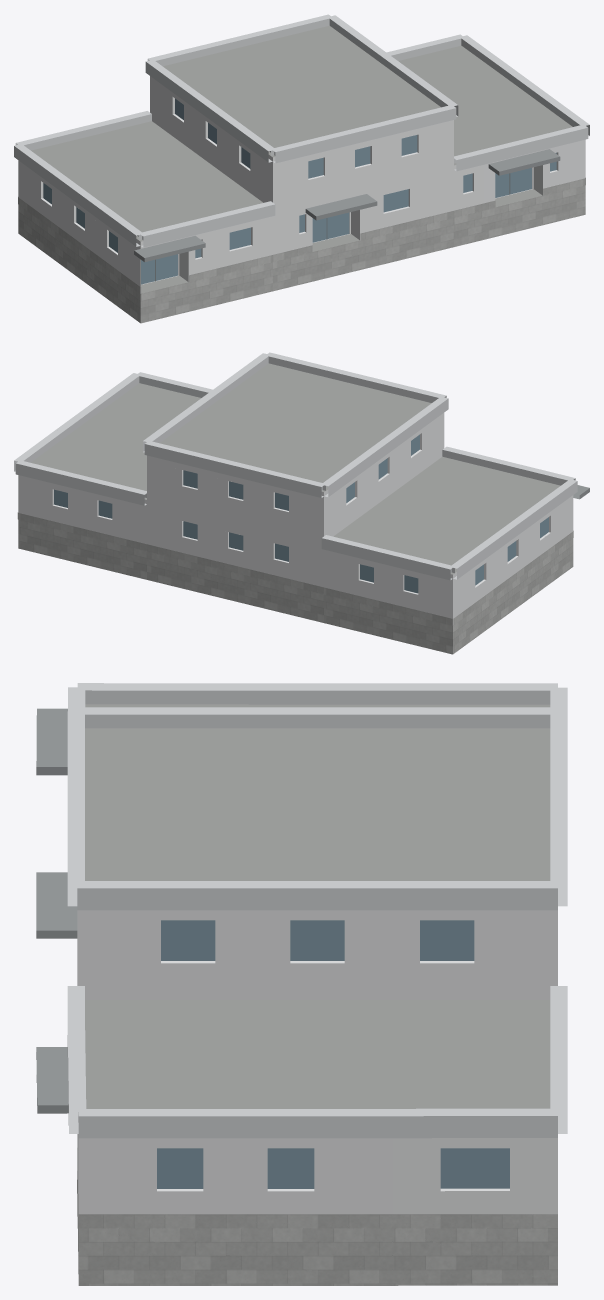
The picture shows the model from 3 angles, top to bottom: view 1: azimuth 30°, elevation 25°; view 2: azimuth 150°, elevation 25°; view 3: azimuth 270°, elevation 25°; orthographic projection. The views are drawn at different scales.
Visible parts, largest first — view 1: windTunnelW10__roof, windTunnelW10__wall, windTunnelW10__trim, windTunnelW10__base, windTunnelW10__glass, windTunnelW10__canopy; view 2: windTunnelW10__roof, windTunnelW10__wall, windTunnelW10__base, windTunnelW10__trim, windTunnelW10__glass; view 3: windTunnelW10__roof, windTunnelW10__wall, windTunnelW10__trim, windTunnelW10__base, windTunnelW10__glass, windTunnelW10__canopy.
Boxes of the visible parts, <box> form: windTunnelW10__roof: <box>31,25,572,293</box>; windTunnelW10__wall: <box>18,76,585,293</box>; windTunnelW10__trim: <box>14,14,589,247</box>; windTunnelW10__base: <box>18,178,585,323</box>; windTunnelW10__glass: <box>43,98,556,284</box>; windTunnelW10__canopy: <box>134,149,560,262</box>; windTunnelW10__roof: <box>31,363,560,574</box>; windTunnelW10__wall: <box>18,413,573,625</box>; windTunnelW10__base: <box>17,512,573,654</box>; windTunnelW10__trim: <box>14,352,577,580</box>; windTunnelW10__glass: <box>54,434,548,593</box>; windTunnelW10__roof: <box>77,704,550,1193</box>; windTunnelW10__wall: <box>77,910,557,1215</box>; windTunnelW10__trim: <box>67,683,567,1138</box>; windTunnelW10__base: <box>77,1148,557,1285</box>; windTunnelW10__glass: <box>157,920,509,1188</box>; windTunnelW10__canopy: <box>36,708,77,1113</box>.
Bounding box in the file's own units: 40.3 × 11.9 × 20.79.
Materials: 8 (1 with a texture image).
